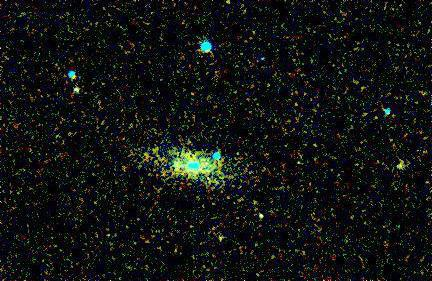star: (162, 153, 192, 183)
